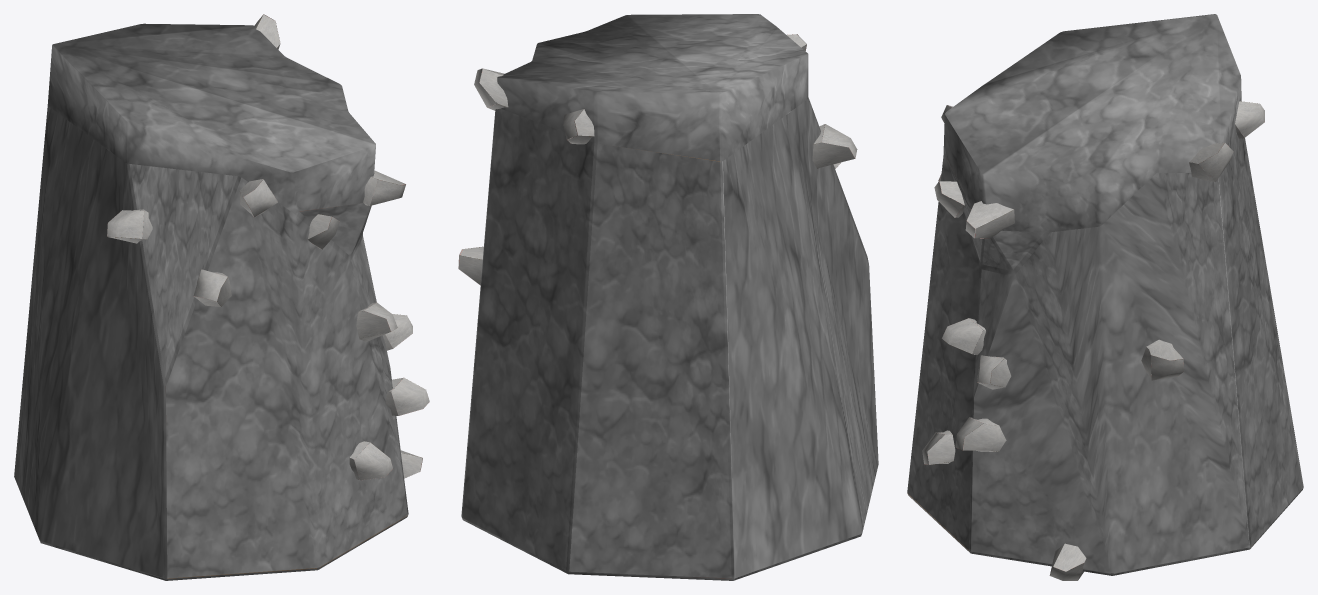
Rendered from SmallIronOre.fbx.
3 renders of one model, left to right at view 1: azimuth 30°, elevation 25°; view 2: azimuth 150°, elevation 25°; view 3: azimuth 270°, elevation 25°, orthographic. The views are drawn at different scales.
Parts seen in each view (by area): view 1: SmallIronOre; view 2: SmallIronOre; view 3: SmallIronOre.
Boxes of the visible parts, x1,y1,x2,y2 form: SmallIronOre: (14,14,429,580); SmallIronOre: (458,14,878,580); SmallIronOre: (907,14,1303,580).
Bounding box in the file's own units: 119 × 141 × 115.
